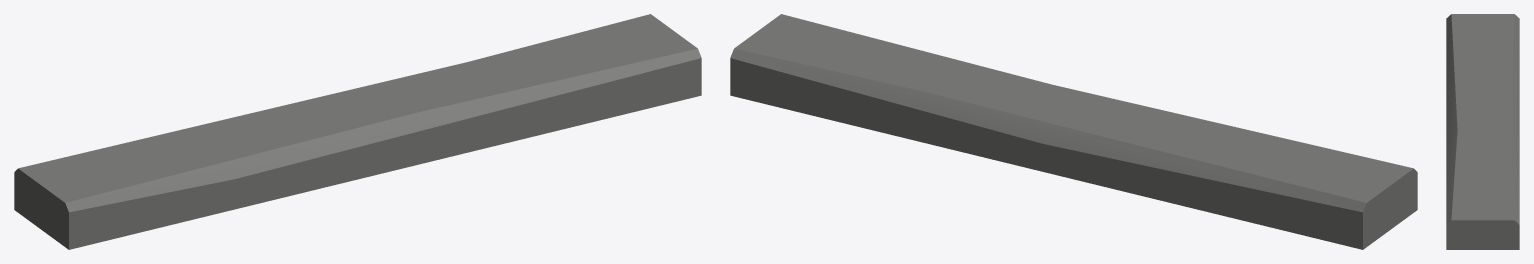
File: SM_Bld_Roof_Side_01.glb
3 renders of one model, left to right at view 1: azimuth 30°, elevation 25°; view 2: azimuth 150°, elevation 25°; view 3: azimuth 270°, elevation 25°, orthographic. The views are drawn at different scales.
Parts seen in each view (by area): view 1: SM_Bld_Roof_Side_01; view 2: SM_Bld_Roof_Side_01; view 3: SM_Bld_Roof_Side_01.
Part boxes in pixels (bbox=[...]): SM_Bld_Roof_Side_01: bbox=[14, 14, 701, 249]; SM_Bld_Roof_Side_01: bbox=[730, 14, 1417, 249]; SM_Bld_Roof_Side_01: bbox=[1446, 14, 1519, 249].
Bounding box in the file's own units: 2.5 × 0.1672 × 0.3743.
Materials: 1 (1 with a texture image).
